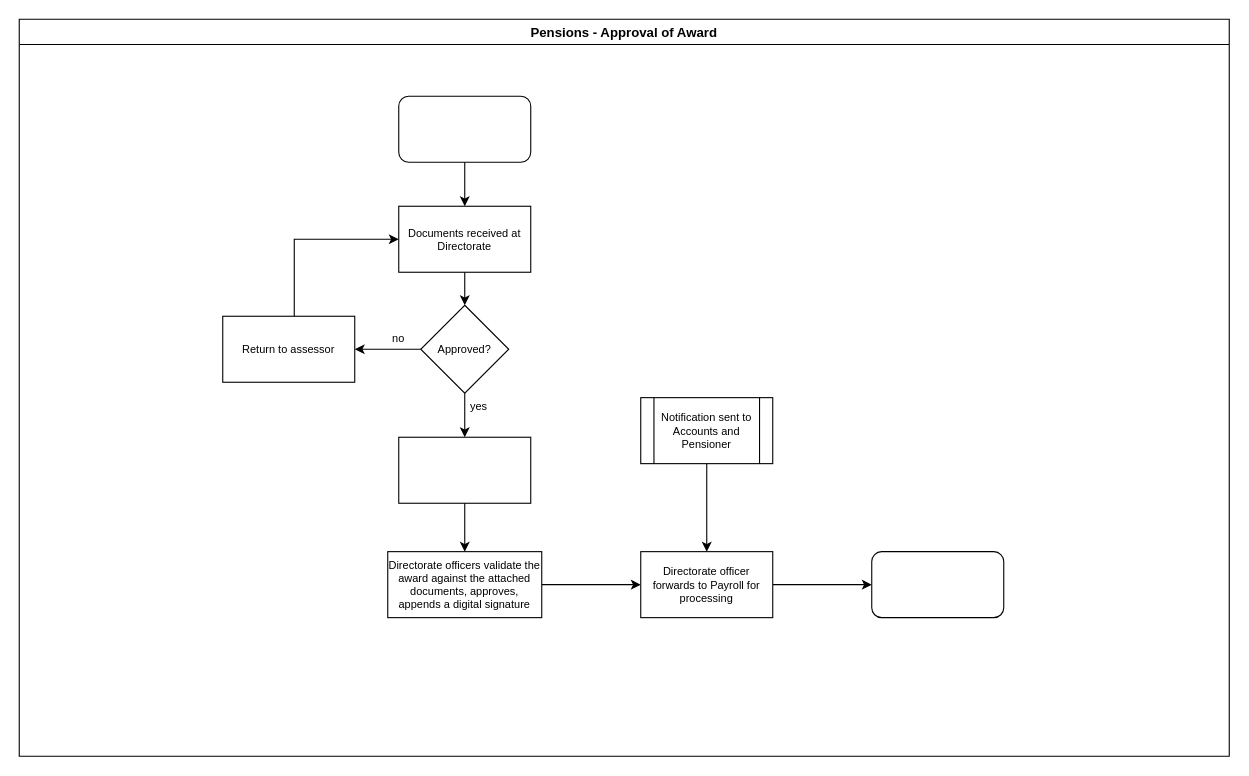
Some shapes in this 1249 by 776 pixel diagram are drawn without their labels. The centre of each missing label's shape, as x and y in pixels:
End: the point at 937,584
Start: the point at 464,128
Team leader at the Directorate distributes the workload equally: the point at 464,469
